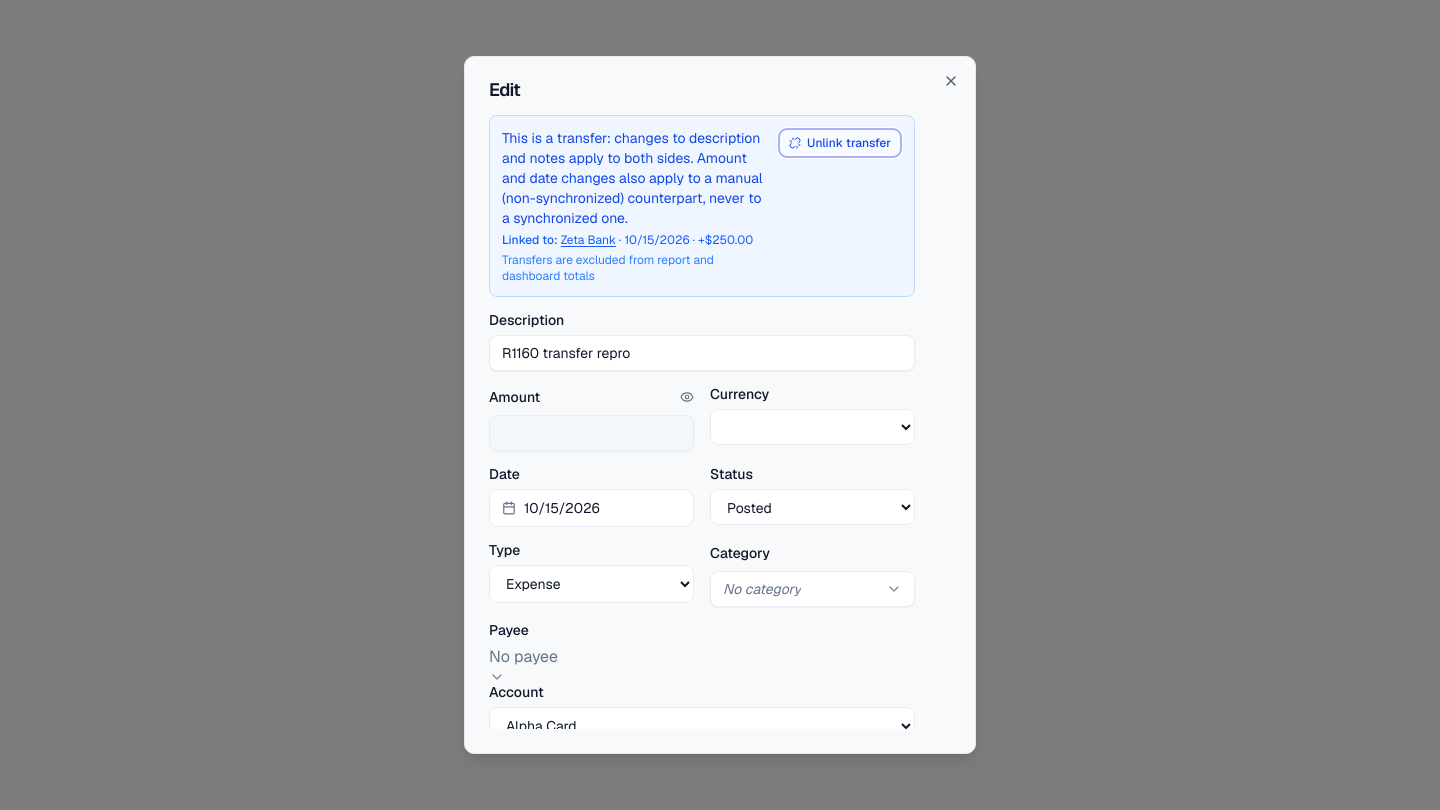
Scenario: keeps the transfer linked when the unlink confirmation is cancelled
Step 1. Click the button "Unlink transfer" → point(840, 143), box [778,128,902,158]
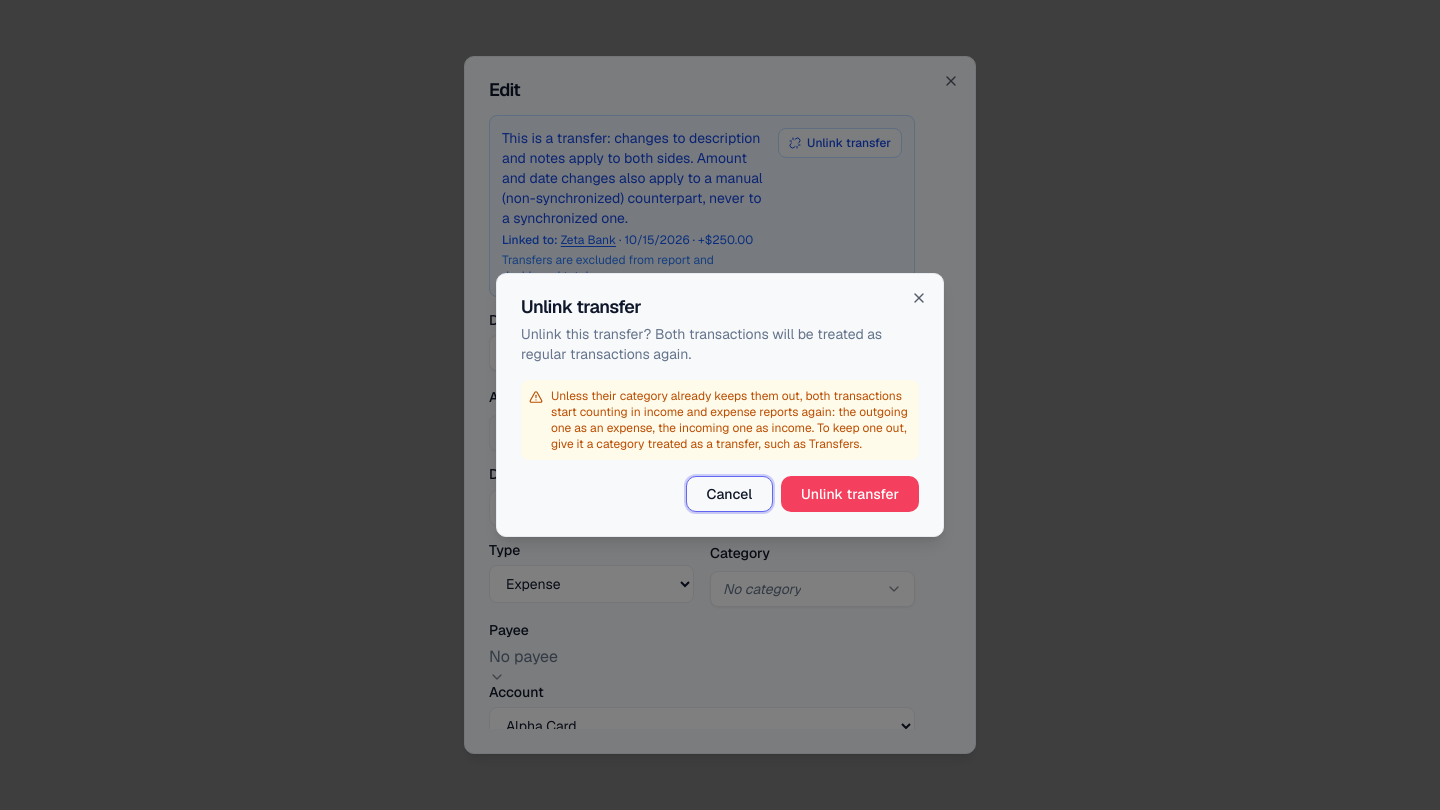
Step 2. Click the button "Cancel" → point(729, 494), box [686,476,773,512]
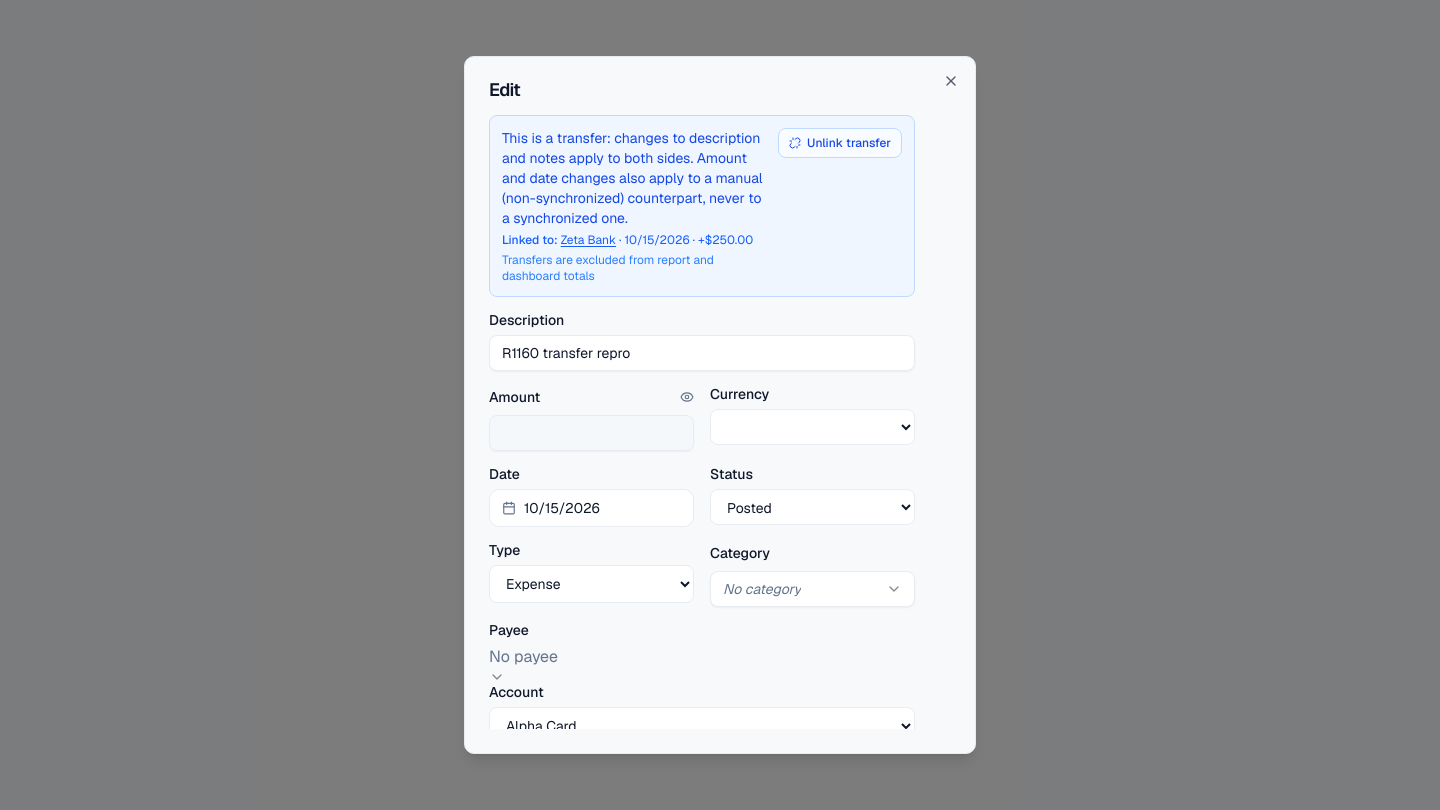
Now the text "Unlink this transfer? Both transactions will be treated as regular transactions again." is gone
